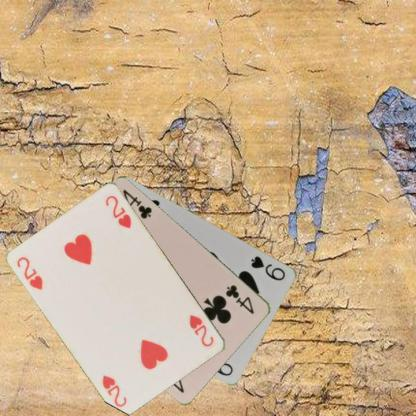2h: (14, 254, 44, 291), (186, 312, 216, 348)
4c: (223, 282, 256, 315)
9s: (248, 253, 287, 282)
